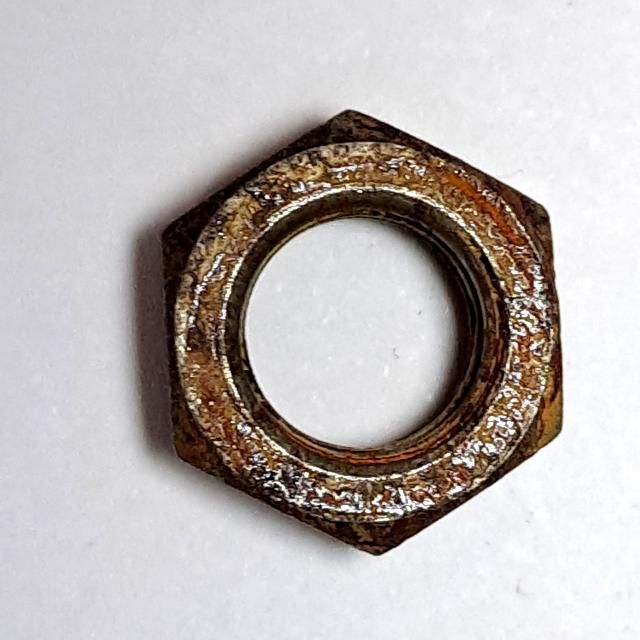Rust: (149, 102, 591, 569)
